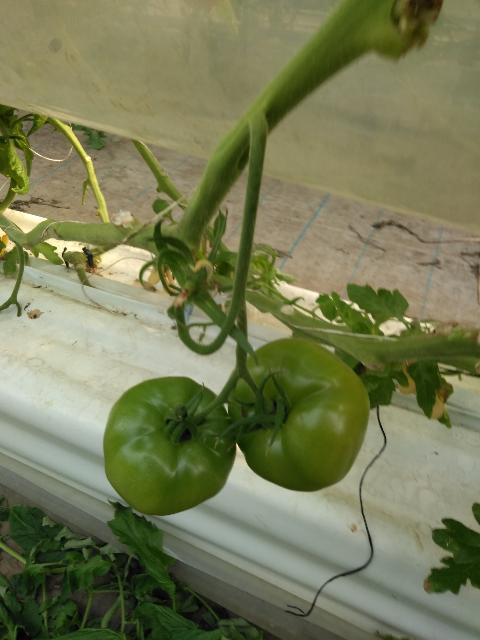b_green: (228, 338, 371, 492), (103, 376, 237, 516)
